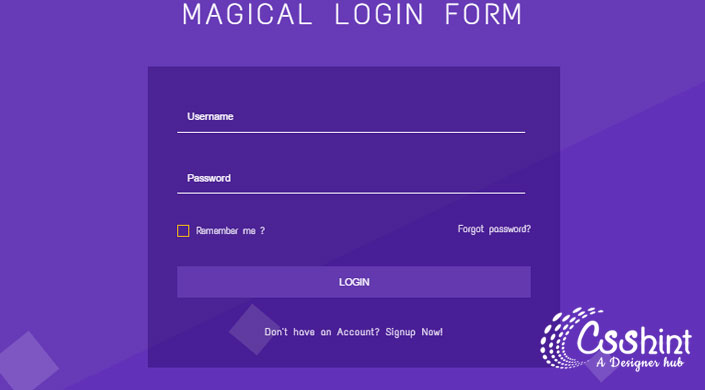_form_: (147, 1, 563, 390)
button: (175, 265, 534, 301)
checkbox: (176, 222, 195, 239)
checkbox_with_label: (172, 220, 265, 241)
field_line: (176, 107, 527, 136), (175, 170, 525, 197)
